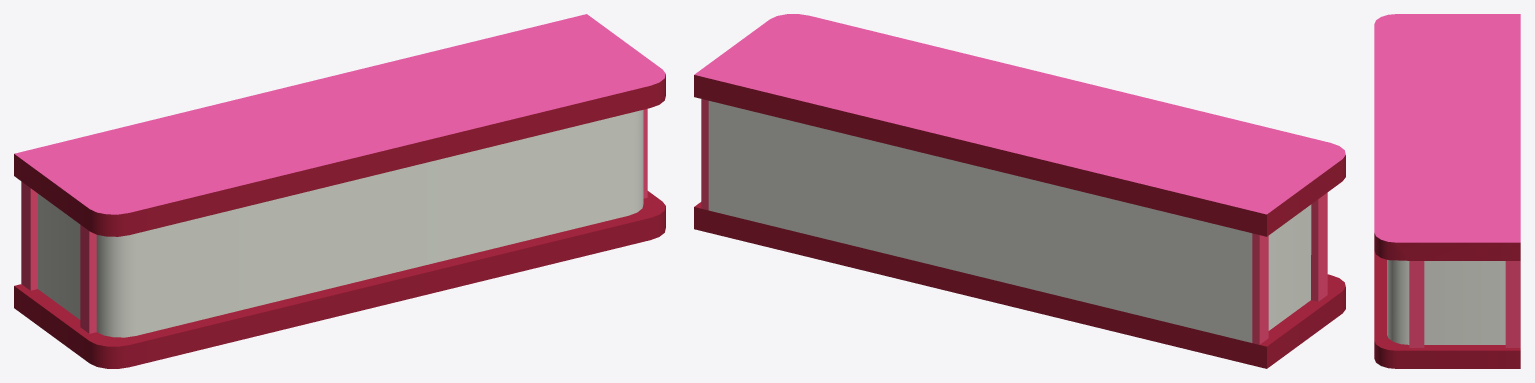
Rendered from TableB5-2_geo.fbx.
3 renders of one model, left to right at view 1: azimuth 30°, elevation 25°; view 2: azimuth 150°, elevation 25°; view 3: azimuth 270°, elevation 25°, orthographic. The views are drawn at different scales.
Parts seen in each view (by area): view 1: TableB4-2_geo; view 2: TableB4-2_geo; view 3: TableB4-2_geo.
Part boxes in pixels (<box>): TableB4-2_geo: <box>14,14,665,368</box>; TableB4-2_geo: <box>694,14,1345,368</box>; TableB4-2_geo: <box>1374,14,1520,368</box>.
Bounding box in the file's own units: 2.64 × 0.7143 × 0.6803.
